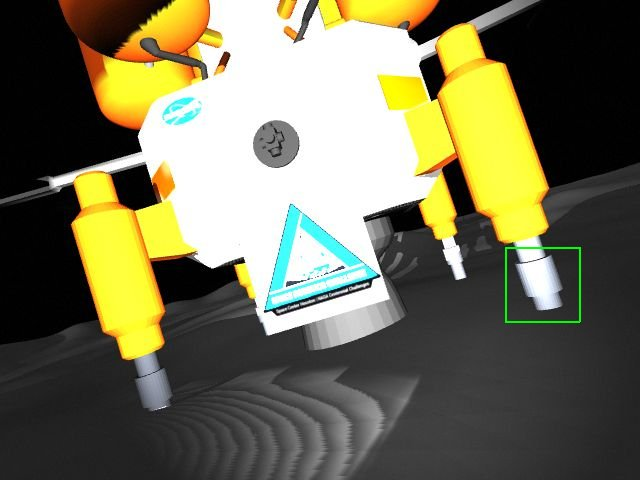basemarker: (263, 203, 382, 316)
